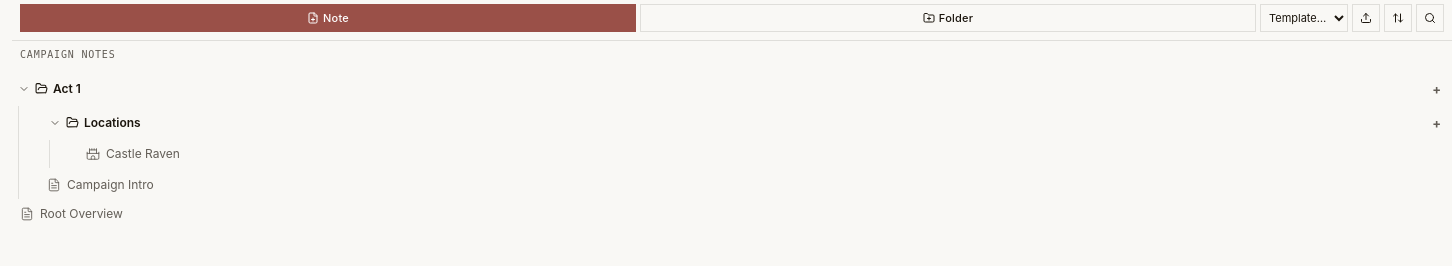
Test: VaultTree Component › filters notes when typing in the search box
Note: Open search box
Click the button titled "Filter tree": (1430, 18) [1416,4,1444,32]
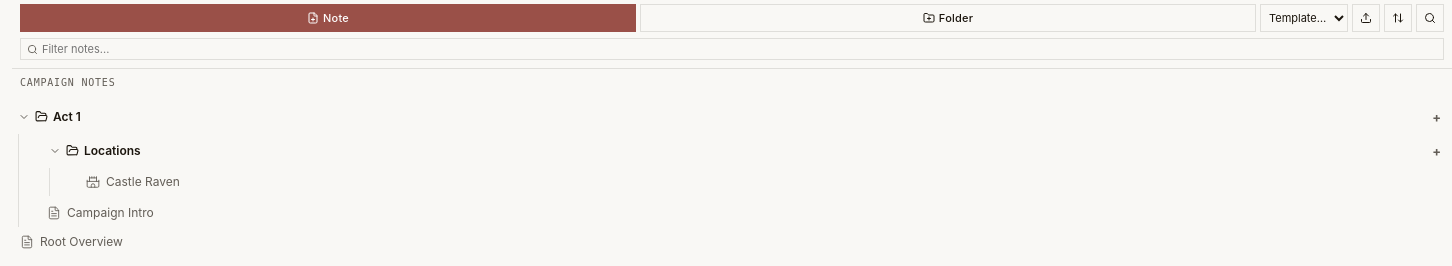
In the field with placeholder "Filter notes...": (739, 49) [42,42,1437,56], type "Castle"
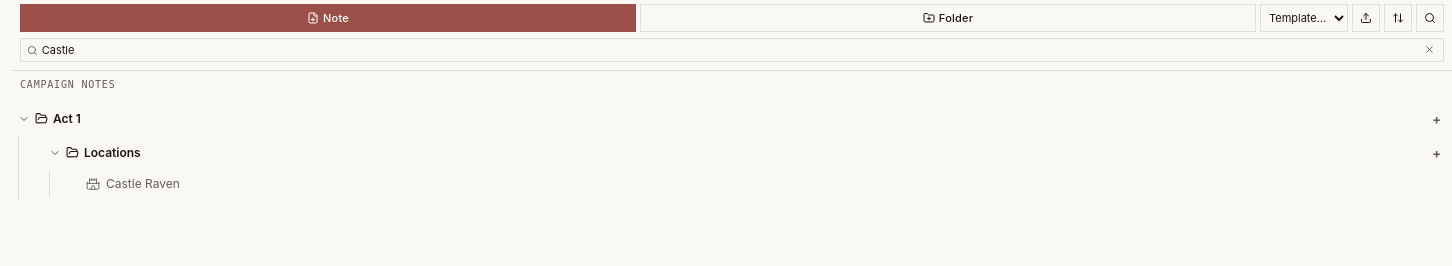
Expected: the text "Castle Raven" is shown, [106,176,180,191]
Now the button "Campaign Intro" is gone
